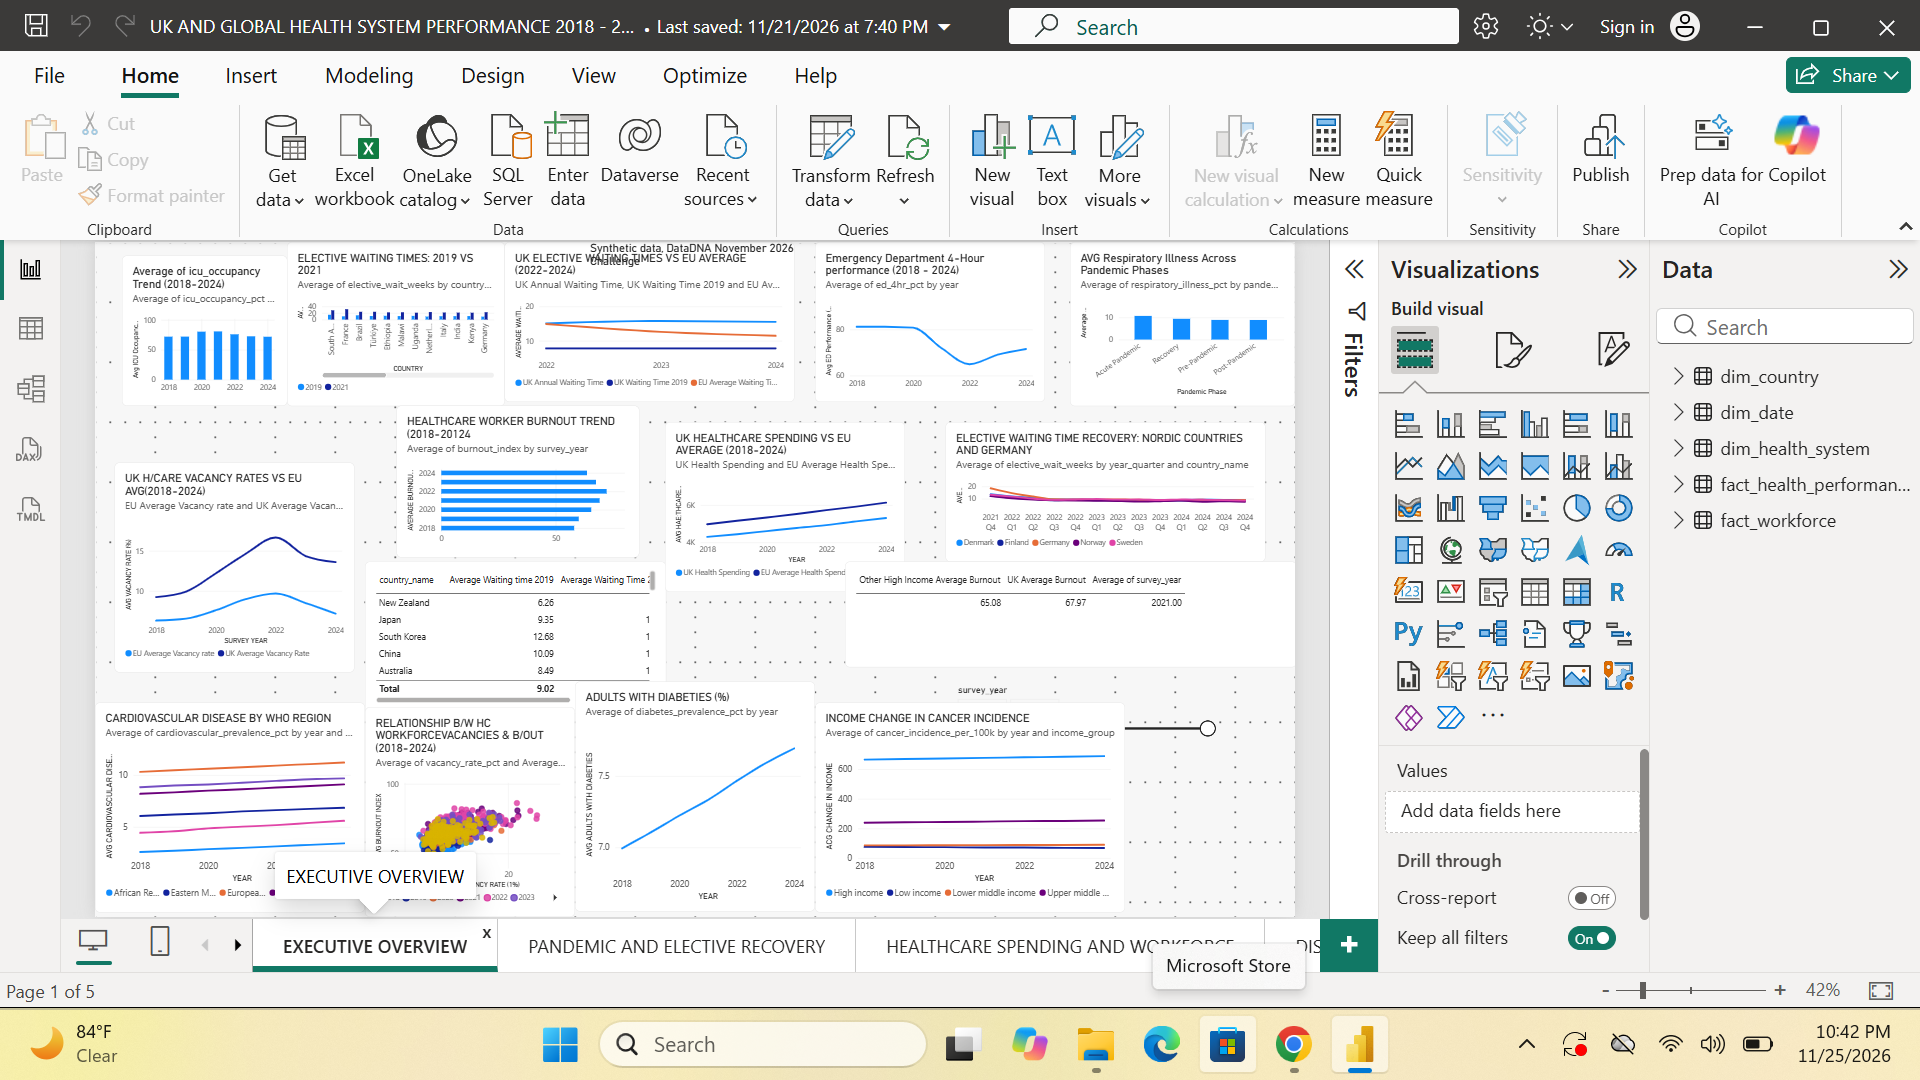

This screenshot's page, from the dashboard's own definition file:
{"tool":"powerbi","page":{"name":"EXECUTIVE OVERVIEW","canvas":[1920,1080],"ordinal":0},"visuals":[{"type":"clusteredColumnChart","title":"Average of icu_occupancy Trend (2018-2024)","fields":{"Category":["dim_date.year"],"Y":["Avg(fact_health_performance.icu_occupancy_pct)"]},"box":[42.9,21.5,264.8,241],"z":0},{"type":"lineChart","title":"Emergency Department 4-Hour performance  (2018 - 2024)","fields":{"Category":["dim_date.year"],"Y":["Avg(fact_health_performance.ed_4hr_pct)"]},"box":[1152,0,368,256],"z":1000},{"type":"clusteredColumnChart","title":"AVG Respiratory Illness  Across Pandemic Phases","fields":{"Category":["dim_date.pandemic_phase"],"Y":["Avg(fact_health_performance.respiratory_illness_pct)"]},"box":[1560.4,0,360.3,262.5],"z":2000},{"type":"clusteredColumnChart","title":"ELECTIVE WAITING TIMES: 2019 VS 2021","fields":{"Category":["dim_country.country_name"],"Series":["dim_date.year"],"Y":["Avg(fact_health_performance.elective_wait_weeks)"]},"box":[307.8,0,348.3,262.5],"z":3000},{"type":"tableEx","fields":{"Values":["dim_country.country_name","fact_health_performance.Average Waiting time 2019","fact_health_performance.Average Waiting Time 2021","fact_health_performance.Waiting Time Increase"]},"box":[432,512,482,243.4],"z":4000},{"type":"lineChart","title":"ELECTIVE WAITING TIME RECOVERY: NORDIC COUNTRIES AND GERMANY","fields":{"Category":["dim_date.year_quarter"],"Series":["dim_country.country_name"],"Y":["Avg(fact_health_performance.elective_wait_weeks)"]},"box":[1376,288,501,224.3],"z":5000},{"type":"lineChart","title":"UK ELECTIVE WAITING TIMES VS EU AVERAGE (2022-2024)","fields":{"Category":["dim_date.year"],"Y":["dim_country.UK Annual Waiting Time","dim_country.UK Waiting Time 2019","dim_country.EU Average Waiting Time"]},"box":[656,0,464,256],"z":6000},{"type":"lineChart","title":"UK HEALTHCARE SPENDING VS EU AVERAGE (2018-2024)","fields":{"Category":["dim_date.year"],"Y":["dim_country.UK Health Spending","dim_country.EU Average Health Spending"]},"box":[912,288,384,272],"z":7000},{"type":"clusteredBarChart","title":"HEALTHCARE WORKER BURNOUT TREND (2018-20124","fields":{"Category":["fact_workforce.survey_year"],"Y":["Avg(fact_workforce.burnout_index)"]},"box":[482,262.5,388.9,243.4],"z":8000},{"type":"scatterChart","title":"RELATIONSHIP B/W HC WORKFORCEVACANCIES & B/OUT (2018-2024)","fields":{"Category":["fact_workforce.system_id"],"Series":["fact_workforce.survey_year"],"X":["Avg(fact_workforce.vacancy_rate_pct)"],"Y":["Avg(fact_workforce.burnout_index)"]},"box":[432,744,336,336],"z":9000},{"type":"textbox","title":"Synthetic data, DataDNA November 2026 Challenge","box":[792.1,0,334,42.9],"z":10000},{"type":"lineChart","title":"UK H/CARE VACANCY RATES VS EU AVG(2018-2024)","fields":{"Category":["fact_workforce.survey_year"],"Y":["dim_country.EU Average Vacancy rate","dim_country.UK Average Vacancy Rate"]},"box":[32,352,384,336],"z":11000},{"type":"tableEx","fields":{"Values":["dim_country.Other High Income Average Burnout","dim_country.UK Average Burnout","Avg(fact_workforce.survey_year)"]},"box":[1200,512,722.9,169.4],"z":12000},{"type":"slicer","fields":{"Values":["fact_workforce.survey_year"]},"box":[1371.9,708.6,424,312],"z":13000},{"type":"lineChart","title":"CARDIOVASCULAR DISEASE BY WHO REGION","fields":{"Category":["dim_date.year"],"Series":["dim_country.who_region"],"Y":["Avg(fact_health_performance.cardiovascular_prevalence_pct)"]},"box":[0,736,432,336],"z":14000},{"type":"lineChart","title":"ADULTS WITH DIABETIES (%)","fields":{"Category":["dim_date.year"],"Y":["Avg(fact_health_performance.diabetes_prevalence_pct)"]},"box":[768,704,384,368],"z":15000},{"type":"lineChart","title":"INCOME CHANGE IN CANCER INCIDENCE","fields":{"Category":["dim_date.year"],"Series":["dim_country.income_group"],"Y":["Avg(fact_health_performance.cancer_incidence_per_100k)"]},"box":[1152,736,496,336],"z":16000}]}

Visuals, with their boxes on the page's 1920x1080 design canvas (x1, y1, x2, y2). These are canvas units, not pixel positions in the 1920x1080 screenshot, which may show the page scaled, cropped or inside an application window:
"Average of icu_occupancy Trend (2018-2024)" clusteredColumnChart: {"left": 43, "top": 22, "right": 308, "bottom": 262}
"Emergency Department 4-Hour performance  (2018 - 2024)" lineChart: {"left": 1152, "top": 0, "right": 1520, "bottom": 256}
"AVG Respiratory Illness  Across Pandemic Phases" clusteredColumnChart: {"left": 1560, "top": 0, "right": 1921, "bottom": 262}
"ELECTIVE WAITING TIMES: 2019 VS 2021" clusteredColumnChart: {"left": 308, "top": 0, "right": 656, "bottom": 262}
tableEx - dim_country.country_name x fact_health_performance.Average Waiting time 2019: {"left": 432, "top": 512, "right": 914, "bottom": 755}
"ELECTIVE WAITING TIME RECOVERY: NORDIC COUNTRIES AND GERMANY" lineChart: {"left": 1376, "top": 288, "right": 1877, "bottom": 512}
"UK ELECTIVE WAITING TIMES VS EU AVERAGE (2022-2024)" lineChart: {"left": 656, "top": 0, "right": 1120, "bottom": 256}
"UK HEALTHCARE SPENDING VS EU AVERAGE (2018-2024)" lineChart: {"left": 912, "top": 288, "right": 1296, "bottom": 560}
"HEALTHCARE WORKER BURNOUT TREND (2018-20124" clusteredBarChart: {"left": 482, "top": 262, "right": 871, "bottom": 506}
"RELATIONSHIP B/W HC WORKFORCEVACANCIES & B/OUT (2018-2024)" scatterChart: {"left": 432, "top": 744, "right": 768, "bottom": 1080}
"Synthetic data, DataDNA November 2026 Challenge" textbox: {"left": 792, "top": 0, "right": 1126, "bottom": 43}
"UK H/CARE VACANCY RATES VS EU AVG(2018-2024)" lineChart: {"left": 32, "top": 352, "right": 416, "bottom": 688}
tableEx - dim_country.Other High Income Average Burnout x dim_country.UK Average Burnout: {"left": 1200, "top": 512, "right": 1923, "bottom": 681}
slicer - fact_workforce.survey_year: {"left": 1372, "top": 709, "right": 1796, "bottom": 1021}
"CARDIOVASCULAR DISEASE BY WHO REGION" lineChart: {"left": 0, "top": 736, "right": 432, "bottom": 1072}
"ADULTS WITH DIABETIES (%)" lineChart: {"left": 768, "top": 704, "right": 1152, "bottom": 1072}
"INCOME CHANGE IN CANCER INCIDENCE" lineChart: {"left": 1152, "top": 736, "right": 1648, "bottom": 1072}
